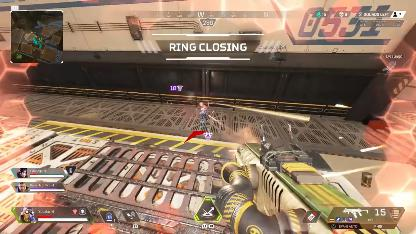Target: (196, 100, 210, 128)
